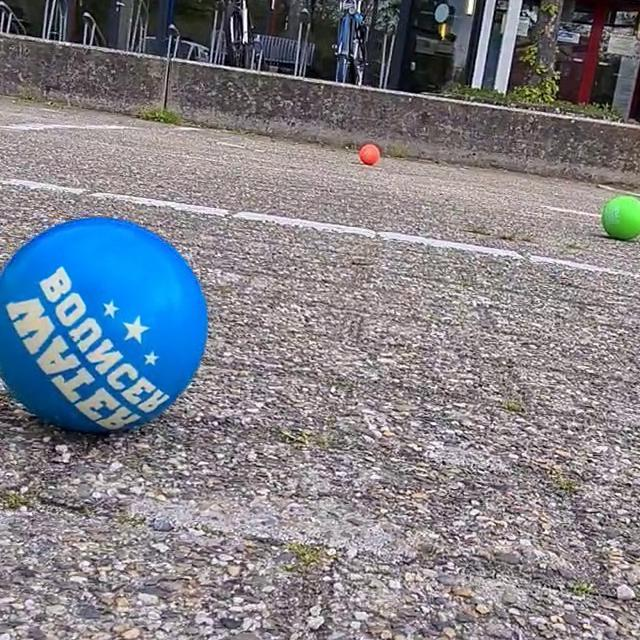ball: (602, 190, 640, 244), (358, 138, 380, 167)
